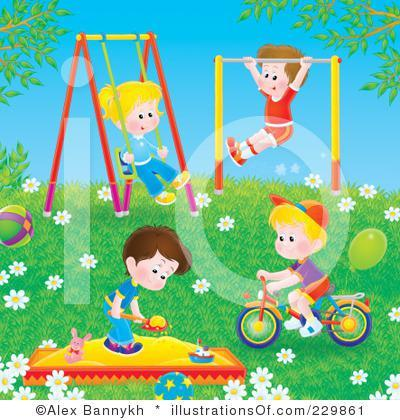bicycle: (227, 270, 382, 353)
person: (94, 78, 194, 205), (99, 228, 194, 359), (221, 34, 308, 167), (256, 192, 331, 343)
